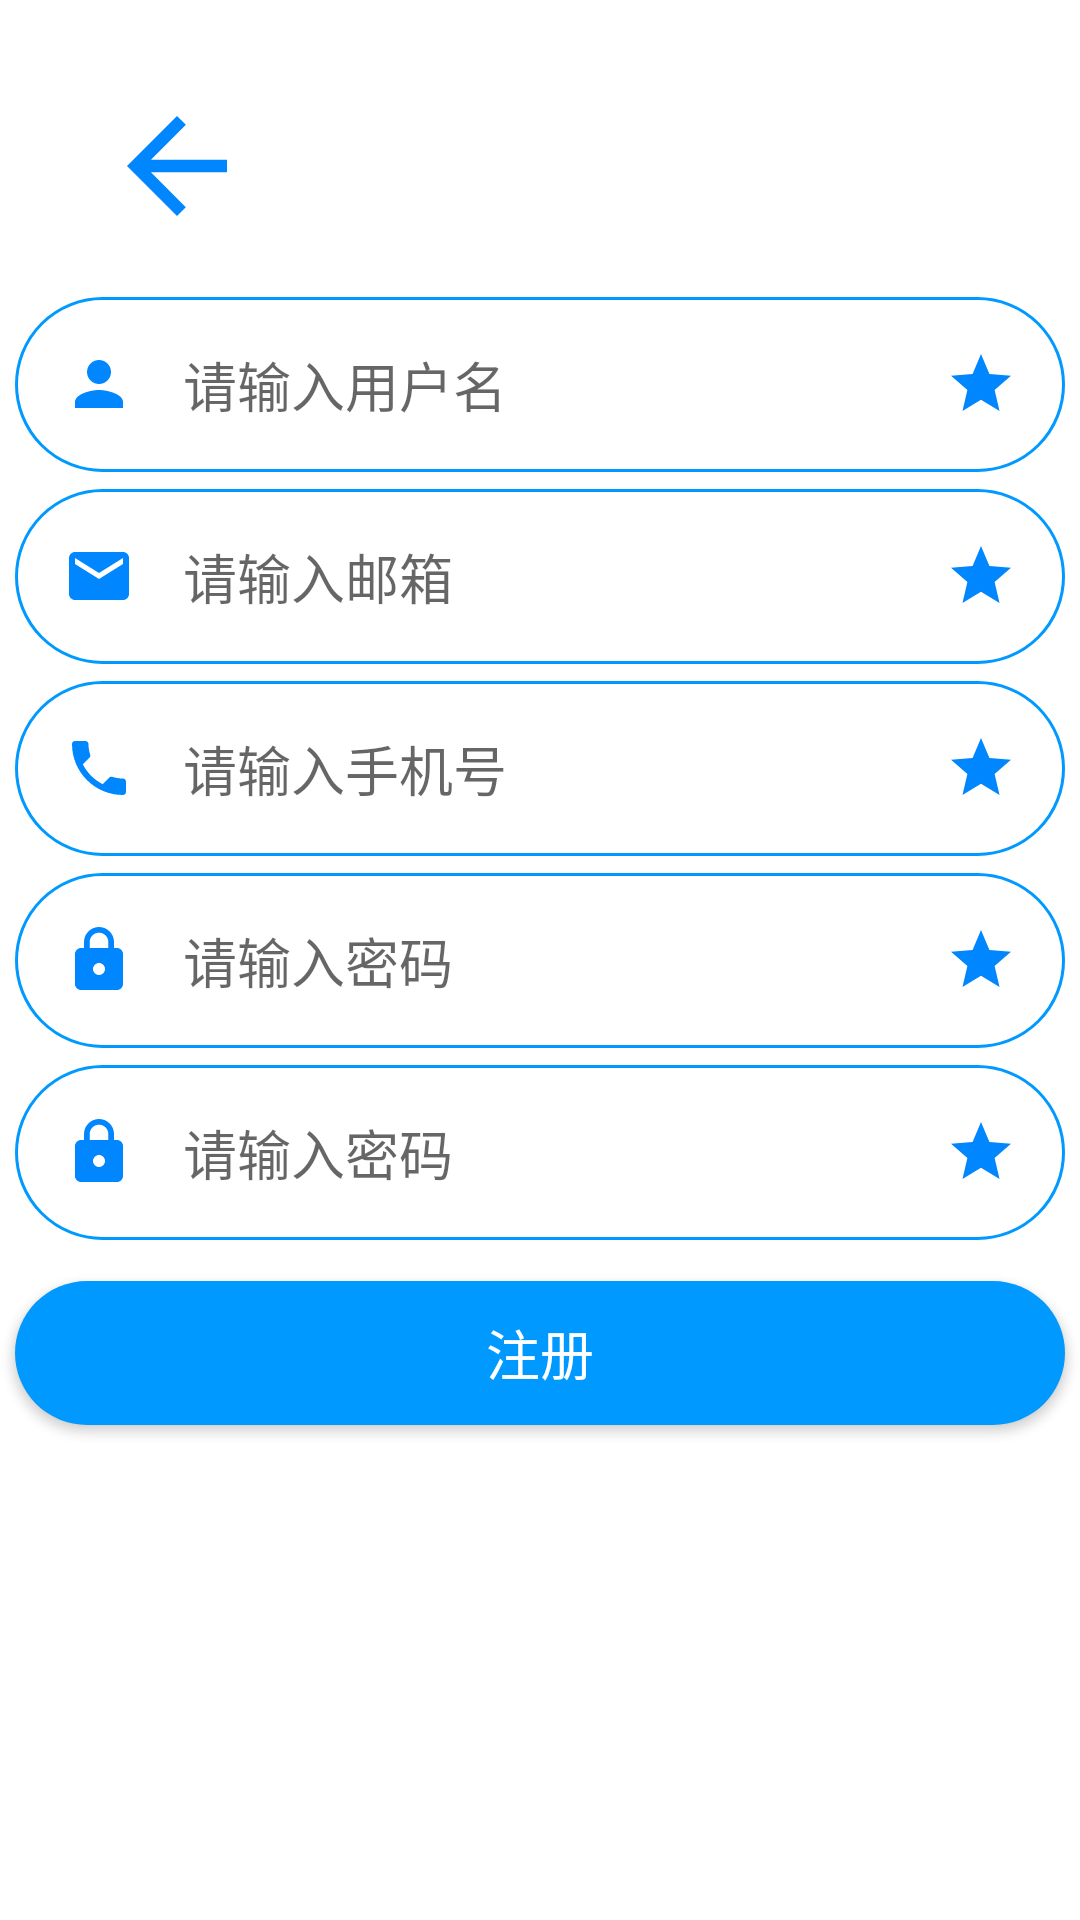

Locate icon controls on the screen. Image size 1080 x 1920, boxes as (x1, y1, x2, y2).
back: (127, 116, 227, 216)
